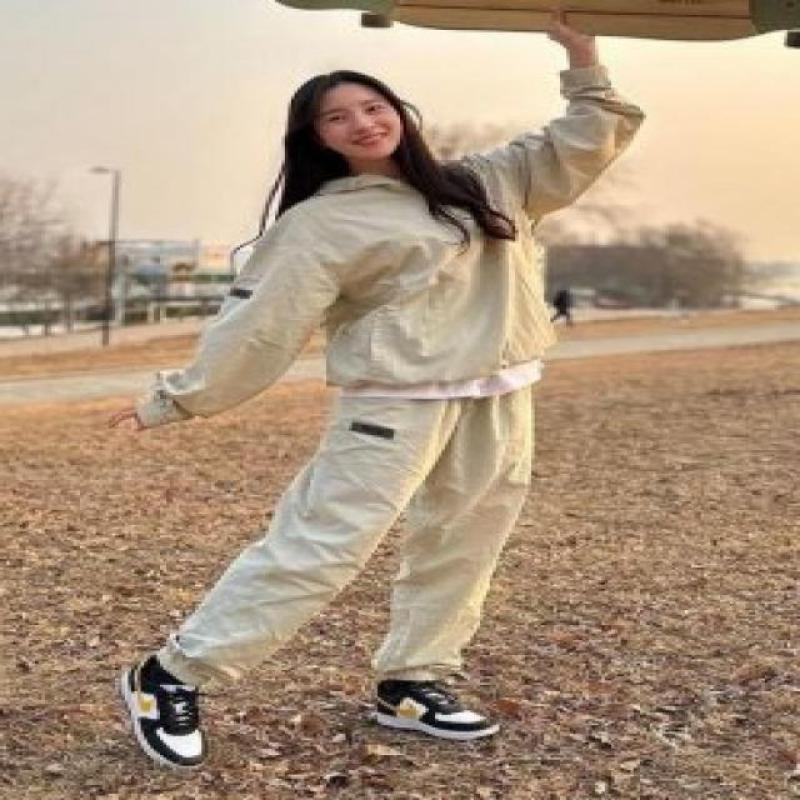jacket: (134, 62, 649, 434)
trousers: (154, 387, 537, 685)
